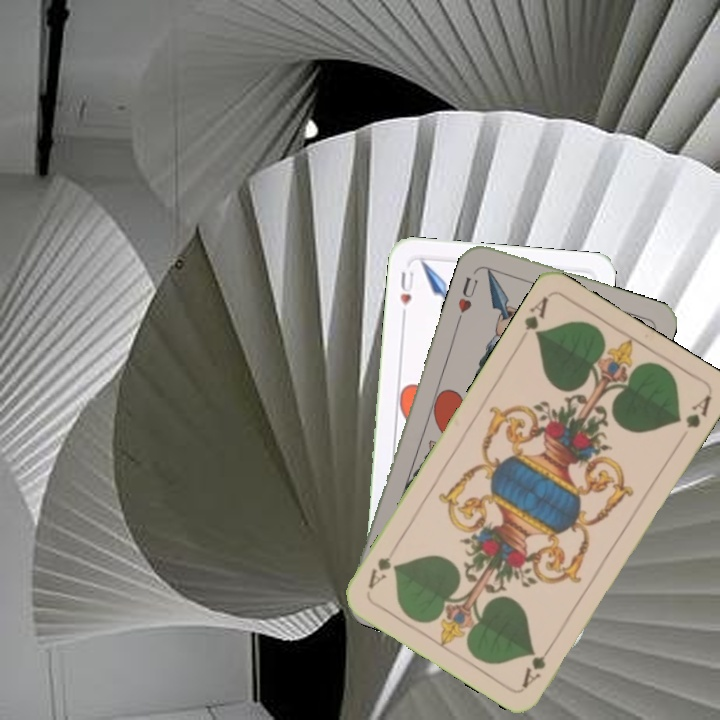GA: (518, 637, 557, 691), (520, 292, 551, 341)
HU: (453, 272, 481, 324), (396, 267, 417, 320)
